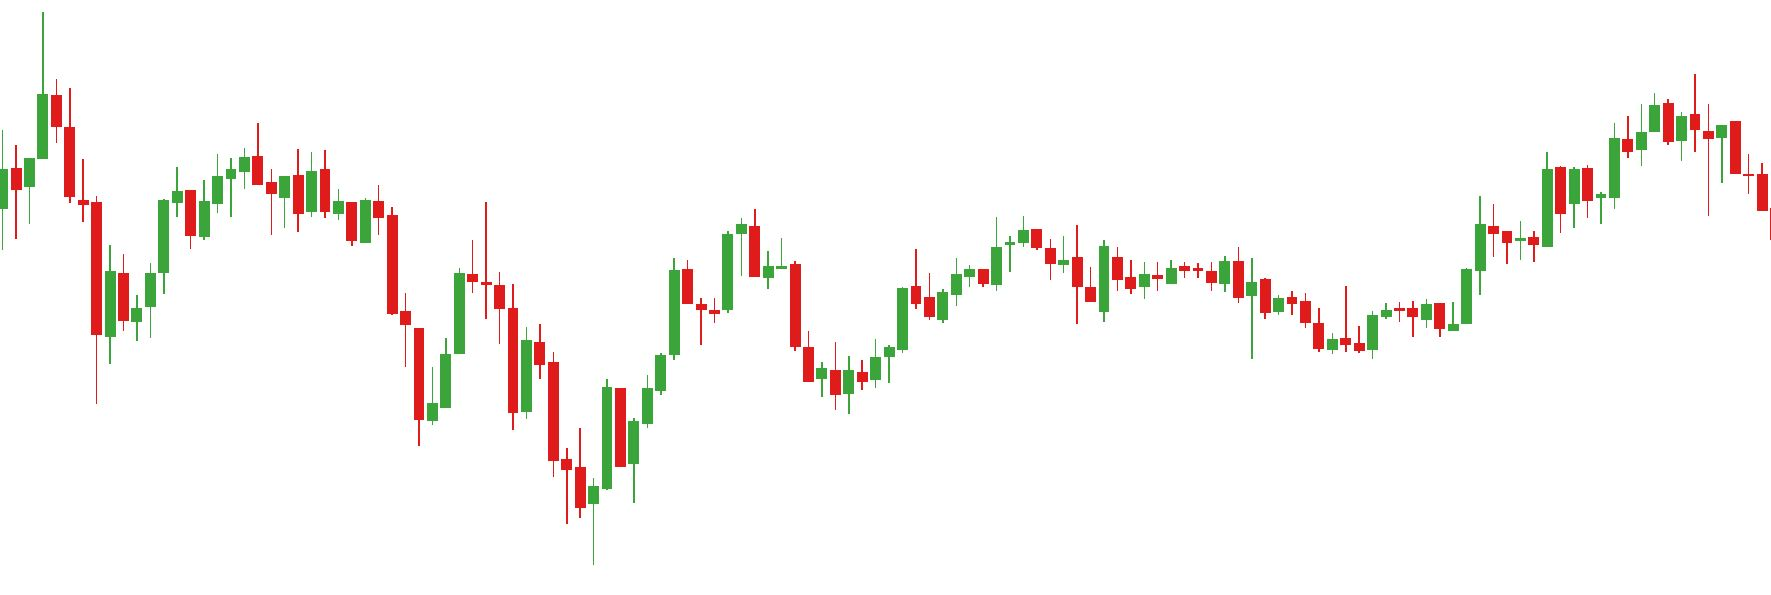buy: (90, 285, 452, 448)
sell: (169, 124, 267, 220)
